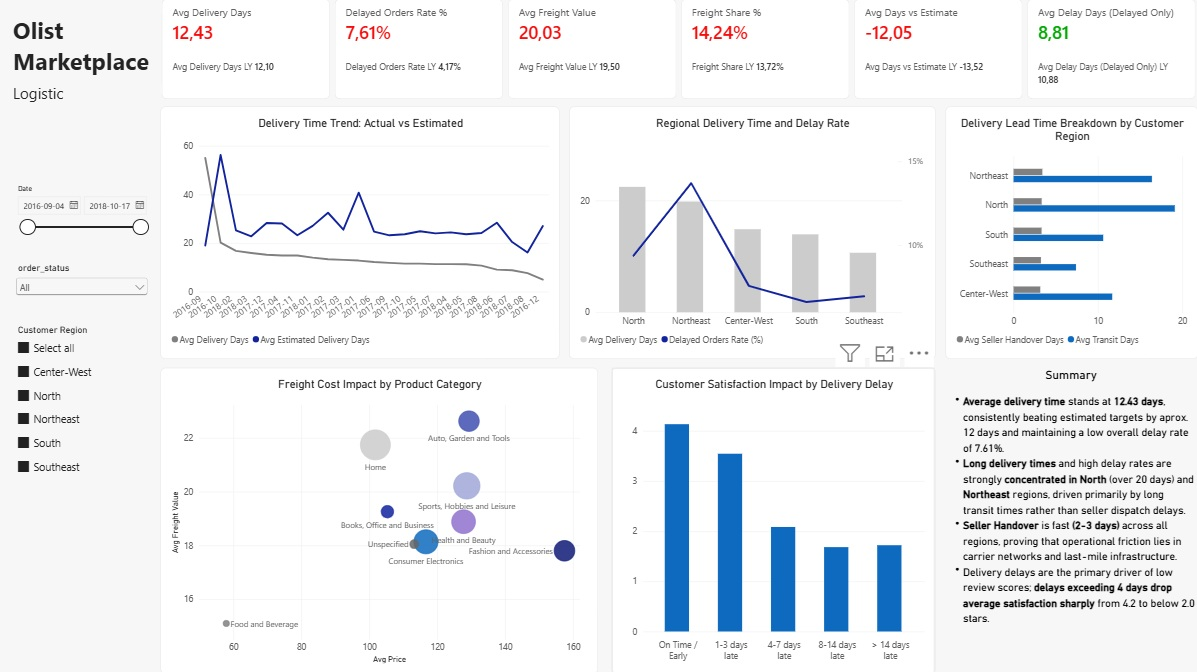

This screenshot's page, from the dashboard's own definition file:
{"tool":"powerbi","page":{"name":"Logistic","canvas":[1920,1080],"ordinal":2},"visuals":[{"type":"textbox","box":[24,24,238,110],"z":0},{"type":"textbox","box":[24.7,133.8,236.7,53.5],"z":1000},{"type":"cardVisual","fields":{"Data":["sales.Avg Delivery Days","sales.Delayed Orders Rate %","sales.Avg Freight Value","sales.Freight Share %","sales.Avg Days vs Estimate","sales.Avg Delay Days (Delayed Only)"]},"box":[262,0,1658,160],"z":2000},{"type":"lineChart","title":"Delivery Time Trend: Actual vs Estimated","fields":{"Y":["sales.Avg Delivery Days","sales.Avg Estimated Delivery Days"],"Category":["dim_date.YearMonth"]},"box":[259.2,171.4,638.8,404.1],"z":3000},{"type":"lineClusteredColumnComboChart","title":"Regional Delivery Time and Delay Rate","fields":{"Category":["sales.customer_region"],"Y":["sales.Avg Delivery Days"],"Y2":["sales.Delayed Orders Rate %"]},"box":[914.3,171.4,586,404],"z":4000},{"type":"scatterChart","title":"Freight Cost Impact by Product Category","fields":{"Y":["sales.Avg Freight Value"],"X":["sales.Avg Price"],"Size":["sales.Total Revenue"],"Series":["dim_products.main_category"]},"box":[259.2,589.8,700,489.8],"z":5000},{"type":"slicer","fields":{"Values":["dim_date.Date"]},"box":[24.5,295.9,220.4,112.2],"z":6000},{"type":"slicer","fields":{"Values":["sales.customer_region"]},"box":[24.5,520.4,220.4,263.3],"z":7000},{"type":"slicer","fields":{"Values":["sales.order_status"]},"box":[24.5,422.4,220.4,98],"z":8000},{"type":"clusteredBarChart","title":"Delivery Lead Time Breakdown by Customer Region","fields":{"Y":["sales.Avg Seller Handover Days","sales.Avg Transit Days"],"Category":["sales.customer_region"]},"box":[1516.3,171.4,404.1,404.1],"z":9000},{"type":"clusteredColumnChart","title":"Customer Satisfaction Impact by Delivery Delay","fields":{"Category":["sales.Delay Range"],"Y":["sales.Avg Review Score"]},"box":[981.6,589.8,518.4,489.8],"z":10000},{"type":"textbox","box":[1516.3,589.8,402,489.8],"z":11000}]}

Visuals, with their boxes in screenshot pixels (x1, y1, x2, y2), scaled from the page's 1920x1080 canvas onto the 1197x672 screenshot:
textbox: region(15, 15, 163, 83)
textbox: region(15, 83, 163, 117)
cardVisual - sales.Avg Delivery Days x sales.Delayed Orders Rate %: region(163, 0, 1196, 100)
"Delivery Time Trend: Actual vs Estimated" lineChart: region(162, 107, 560, 358)
"Regional Delivery Time and Delay Rate" lineClusteredColumnComboChart: region(570, 107, 935, 358)
"Freight Cost Impact by Product Category" scatterChart: region(162, 367, 598, 671)
slicer - dim_date.Date: region(15, 184, 153, 254)
slicer - sales.customer_region: region(15, 324, 153, 488)
slicer - sales.order_status: region(15, 263, 153, 324)
"Delivery Lead Time Breakdown by Customer Region" clusteredBarChart: region(945, 107, 1196, 358)
"Customer Satisfaction Impact by Delivery Delay" clusteredColumnChart: region(612, 367, 935, 671)
textbox: region(945, 367, 1196, 671)
